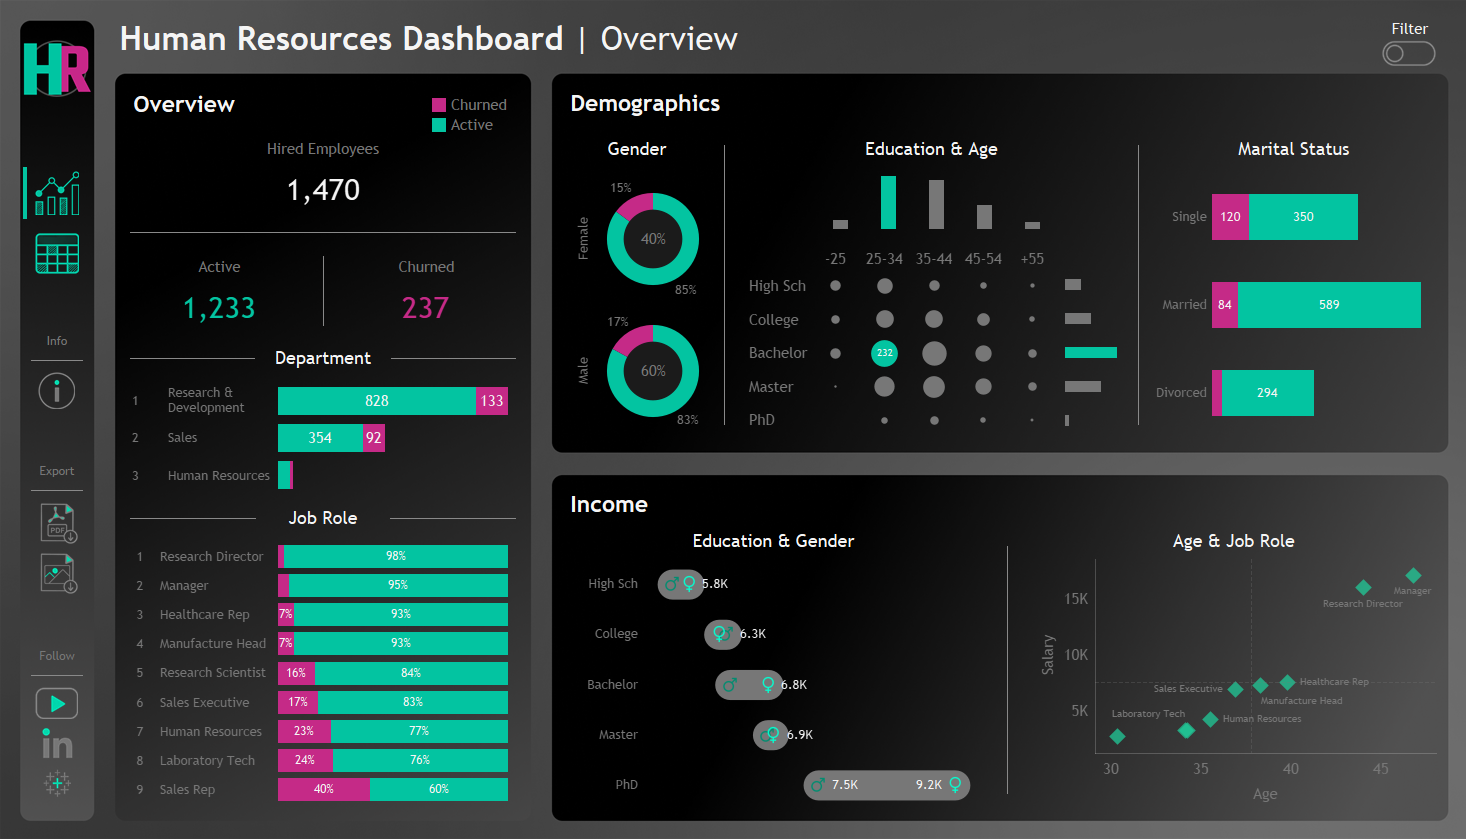

What the dashboard file says about the page in this screenshot:
{"tool":"tableau","page":{"name":"Dashboard","canvas":[1470,840],"ordinal":0},"visuals":[{"type":"image","param":"Image/background dashbaord summary.png","box":[0,0,1470,840]},{"type":"text","box":[117,16,818,47]},{"type":"filter","title":"Education vs Salary (Gender)","param":"[federated.0gt4ieq1x4264u1aw4e5l1h62b78].[none:Attrition:nk]","box":[797,17,145,55]},{"type":"filter","title":"Education vs Salary (Gender)","param":"[federated.0gt4ieq1x4264u1aw4e5l1h62b78].[none:Gender:nk]","box":[942,17,145,55]},{"type":"filter","title":"Education vs Salary (Gender)","param":"[federated.0gt4ieq1x4264u1aw4e5l1h62b78].[none:Department:nk]","box":[1087,17,145,55]},{"type":"filter","title":"Education vs Salary (Gender)","param":"[federated.0gt4ieq1x4264u1aw4e5l1h62b78].[none:JobRole:nk]","box":[1232,17,145,55]},{"type":"image","param":"Image/Logo.png","box":[20,20,76,99]},{"type":"text","box":[1382,21,58,18]},{"type":"dashboard-object","box":[1381,41,57,26]},{"type":"text","box":[560,81,881,45]},{"type":"text","box":[123,82,402,45]},{"type":"legend","title":"Department","param":"[federated.0gt4ieq1x4264u1aw4e5l1h62b78].[none:Attrition:nk]","box":[426,92,92,50]},{"type":"blank","box":[20,119,76,45]},{"type":"blank","box":[716,126,20,320]},{"type":"blank","box":[1129,126,20,320]},{"type":"text","box":[564,130,148,40]},{"type":"text","box":[740,130,385,40]},{"type":"text","box":[1153,130,284,40]},{"type":"worksheet","title":"Card Hired","mark":"Automatic","box":[127,131,394,86]},{"type":"blank","box":[20,164,12,60]},{"type":"image","param":"Image/dashboard-summary-active.png","box":[32,164,52,60]},{"type":"blank","box":[84,164,12,60]},{"type":"worksheet","title":"Gender","mark":"Pie","rows":["Gender"],"cols":["Calculation_1434959490989871110","Calculation_1434959490989871110"],"box":[564,170,148,272]},{"type":"worksheet","title":"Age","mark":"Bar","rows":["Calculation_1434959490987098114"],"cols":["Calculation_1434959491013550091"],"box":[740,170,322,64]},{"type":"worksheet","title":"Education","mark":"Bar","rows":["Calculation_1434959491007647754"],"cols":["Calculation_1434959490987098114"],"box":[1062,170,63,272]},{"type":"worksheet","title":"Marital Status","mark":"Bar","rows":["MaritalStatus"],"cols":["Calculation_1434959490987098114"],"box":[1153,170,284,272]},{"type":"blank","box":[127,217,394,32]},{"type":"blank","box":[20,224,12,60]},{"type":"image","param":"Image/dashboard-records-active1.png","box":[32,224,52,60]},{"type":"blank","box":[84,224,12,60]},{"type":"worksheet","title":"Education vs Age","mark":"Circle","rows":["Calculation_1434959491007647754"],"cols":["Calculation_1434959491013550091"],"box":[740,234,322,208]},{"type":"worksheet","title":"Card Active","mark":"Automatic","box":[127,249,187,86]},{"type":"blank","box":[314,249,20,86]},{"type":"worksheet","title":"Card Attrition","mark":"Automatic","box":[334,249,187,86]},{"type":"blank","box":[20,284,76,45]},{"type":"text","box":[20,329,76,25]},{"type":"blank","box":[127,343.1,132.7,32]},{"type":"text","box":[259.7,343.1,128.7,32]},{"type":"blank","box":[388.3,343.1,132.7,32]},{"type":"blank","box":[20,354,76,15]},{"type":"image","param":"Image/info-hidden.png","box":[20,369,76,45]},{"type":"worksheet","title":"Department","mark":"Automatic","rows":["Calculation_104427276453466113","Department"],"cols":["Calculation_1434959490987098114"],"box":[123,379.1,402,120]},{"type":"blank","box":[20,414,76,45]},{"type":"text","box":[20,459,76,25]},{"type":"text","box":[560,482,881,45]},{"type":"blank","box":[20,484,76,15]},{"type":"dashboard-object","box":[20,499,76,50]},{"type":"blank","box":[127,503.1,134,32]},{"type":"text","box":[261,503.1,126,32]},{"type":"blank","box":[387,503.1,134,32]},{"type":"text","box":[560,527,429,29]},{"type":"blank","box":[989,527,40,288]},{"type":"text","box":[1029,527,412,29]},{"type":"worksheet","title":"JobRole ","mark":"Bar","rows":["Calculation_1434959491049607190","JobRole"],"box":[123,539.1,402,270]},{"type":"dashboard-object","box":[20,549,76,50]},{"type":"worksheet","title":"Education vs Salary (Gender)","mark":"Pie","rows":["Calculation_1434959491007647754"],"cols":["MonthlyIncome","MonthlyIncome"],"box":[560,556,429,259]},{"type":"worksheet","title":"Age vs Salary (Job)","mark":"Shape","rows":["MonthlyIncome"],"cols":["Age"],"box":[1029,556,412,259]},{"type":"blank","box":[20,599,76,45]},{"type":"text","box":[20,644,76,25]},{"type":"blank","box":[20,669,76,15]},{"type":"image","param":"Image/contact-channel.png","box":[20,684,76,40]},{"type":"image","param":"Image/contact-linkedin.png","box":[20,724,76,40]},{"type":"image","param":"Image/contact-public.png","box":[20,764,76,40]}]}

Visuals, with their boxes in screenshot pixels (x1, y1, x2, y2), scaled from the page's 1470x840 canvas onto the 1466x839 screenshot:
image: [0,0,1465,838]
text: [117,16,932,63]
"Education vs Salary (Gender)" filter: [795,17,939,72]
"Education vs Salary (Gender)" filter: [939,17,1084,72]
"Education vs Salary (Gender)" filter: [1084,17,1229,72]
"Education vs Salary (Gender)" filter: [1229,17,1373,72]
image: [20,20,96,119]
text: [1378,21,1436,39]
dashboard-object: [1377,41,1434,67]
text: [558,81,1437,126]
text: [123,82,524,127]
"Department" legend: [425,92,517,142]
blank: [20,119,96,164]
blank: [714,126,734,445]
blank: [1126,126,1146,445]
text: [562,130,710,170]
text: [738,130,1122,170]
text: [1150,130,1433,170]
"Card Hired" worksheet: [127,131,520,217]
blank: [20,164,32,224]
image: [32,164,84,224]
blank: [84,164,96,224]
"Gender" worksheet (Pie marks): [562,170,710,441]
"Age" worksheet (Bar marks): [738,170,1059,234]
"Education" worksheet (Bar marks): [1059,170,1122,441]
"Marital Status" worksheet (Bar marks): [1150,170,1433,441]
blank: [127,217,520,249]
blank: [20,224,32,284]
image: [32,224,84,284]
blank: [84,224,96,284]
"Education vs Age" worksheet (Circle marks): [738,234,1059,441]
"Card Active" worksheet: [127,249,313,335]
blank: [313,249,333,335]
"Card Attrition" worksheet: [333,249,520,335]
blank: [20,284,96,329]
text: [20,329,96,354]
blank: [127,343,259,375]
text: [259,343,387,375]
blank: [387,343,520,375]
blank: [20,354,96,369]
image: [20,369,96,414]
"Department" worksheet: [123,379,524,499]
blank: [20,414,96,458]
text: [20,458,96,483]
text: [558,481,1437,526]
blank: [20,483,96,498]
dashboard-object: [20,498,96,548]
blank: [127,503,260,534]
text: [260,503,386,534]
blank: [386,503,520,534]
text: [558,526,986,555]
blank: [986,526,1026,814]
text: [1026,526,1437,555]
"JobRole " worksheet (Bar marks): [123,538,524,808]
dashboard-object: [20,548,96,598]
"Education vs Salary (Gender)" worksheet (Pie marks): [558,555,986,814]
"Age vs Salary (Job)" worksheet (Shape marks): [1026,555,1437,814]
blank: [20,598,96,643]
text: [20,643,96,668]
blank: [20,668,96,683]
image: [20,683,96,723]
image: [20,723,96,763]
image: [20,763,96,803]
